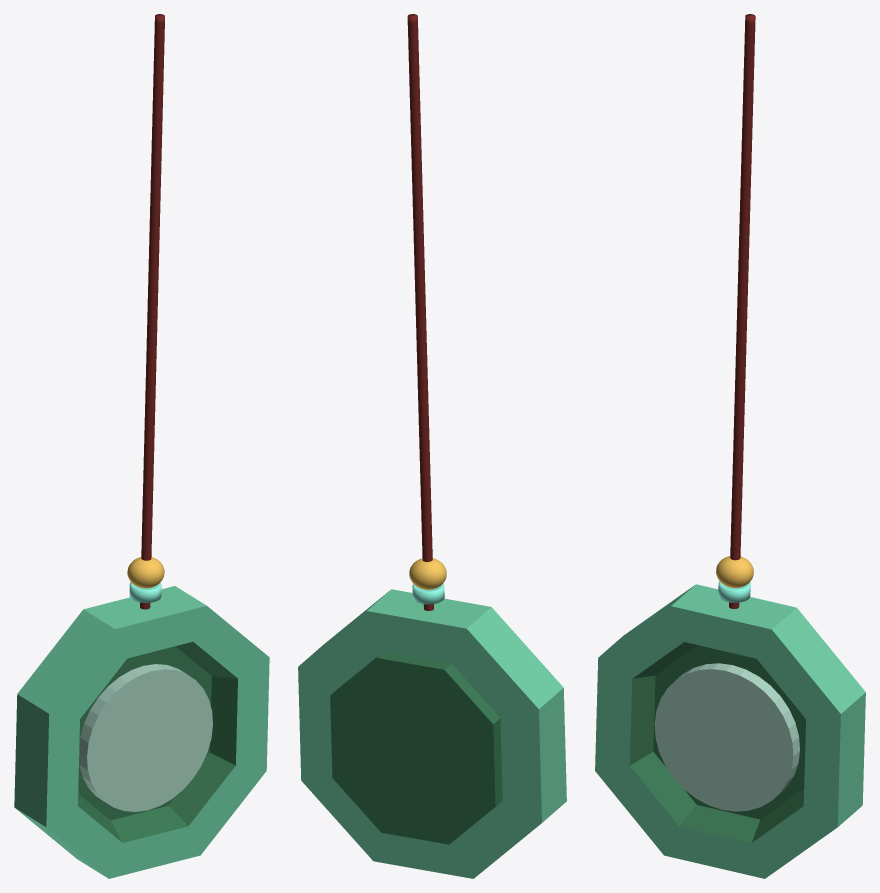
The model's file is jade_pei.fbx.
The picture shows the model from 3 angles, left to right: view 1: azimuth 30°, elevation 25°; view 2: azimuth 150°, elevation 25°; view 3: azimuth 330°, elevation 25°; orthographic projection.
Parts seen in each view (by area): view 1: jade_knot; view 2: jade_knot; view 3: jade_knot.
Boxes of the visible parts, box(x1,y1,x2,y2) form: jade_knot: box(14, 14, 269, 878); jade_knot: box(298, 14, 566, 878); jade_knot: box(595, 14, 865, 878).
Size of the model in its own units: 214 by 722 by 70.16.
